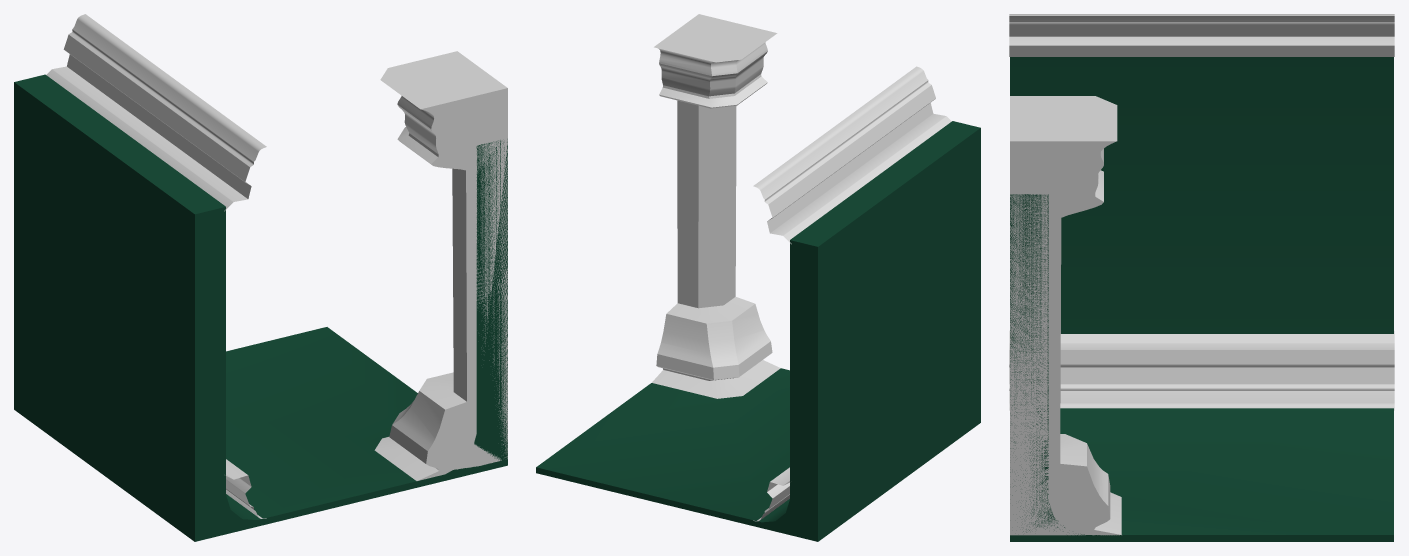
File: Tileset_Piece_23.fbx
3 renders of one model, left to right at view 1: azimuth 30°, elevation 25°; view 2: azimuth 150°, elevation 25°; view 3: azimuth 270°, elevation 25°, orthographic. The views are drawn at different scales.
Visible parts, largest first — view 1: Tileset_Piece_23; view 2: Tileset_Piece_23; view 3: Tileset_Piece_23.
Part boxes in pixels (bbox=[...]): Tileset_Piece_23: bbox=[14, 14, 507, 541]; Tileset_Piece_23: bbox=[536, 14, 980, 541]; Tileset_Piece_23: bbox=[1009, 14, 1394, 541].
Size of the model in its own units: 100 by 115 by 100.
